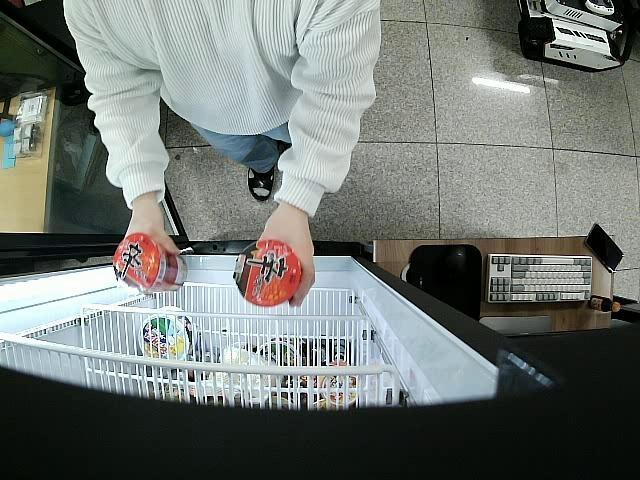02_shinRamen_S: (108, 234, 190, 292), (231, 240, 302, 306)
